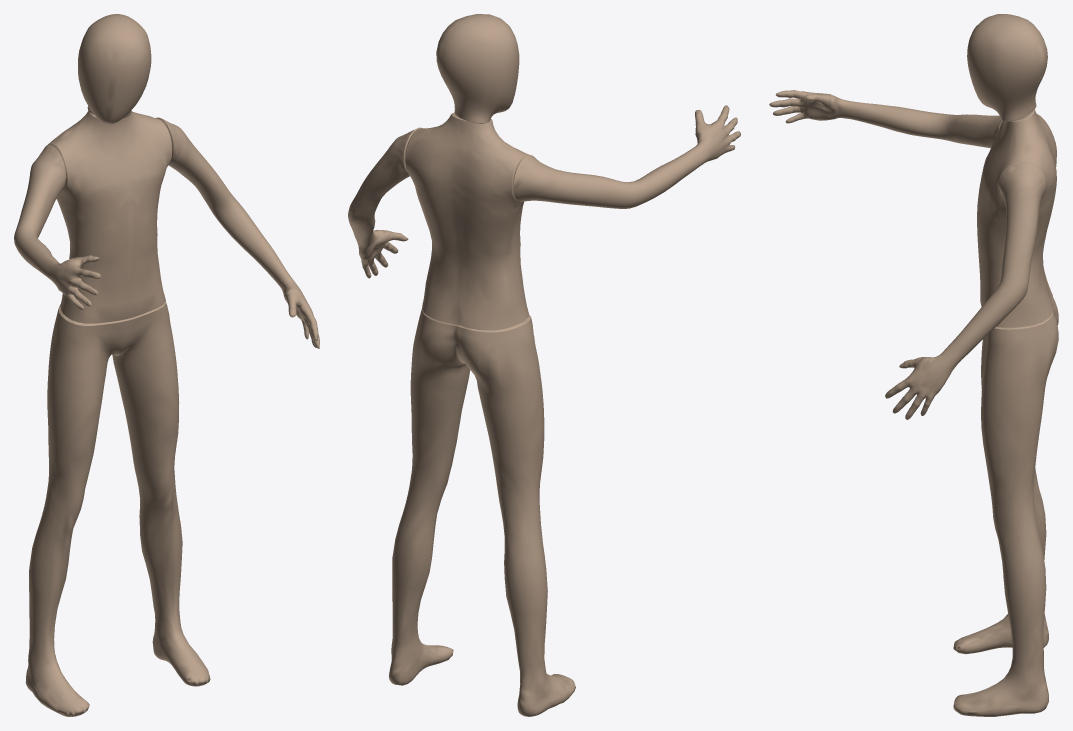
File: Mannequin_Pose_seeing.fbx
3 views of the same model, side by side, from view 1: azimuth 30°, elevation 25°; view 2: azimuth 150°, elevation 25°; view 3: azimuth 270°, elevation 25° (orthographic).
Parts seen in each view (by area): view 1: Mannequin_Seeing; view 2: Mannequin_Seeing; view 3: Mannequin_Seeing.
Part boxes in pixels (bbox=[...]): Mannequin_Seeing: bbox=[14, 14, 319, 716]; Mannequin_Seeing: bbox=[348, 14, 740, 716]; Mannequin_Seeing: bbox=[769, 14, 1058, 716].
Size of the model in its own units: 110 by 231 by 91.39.
